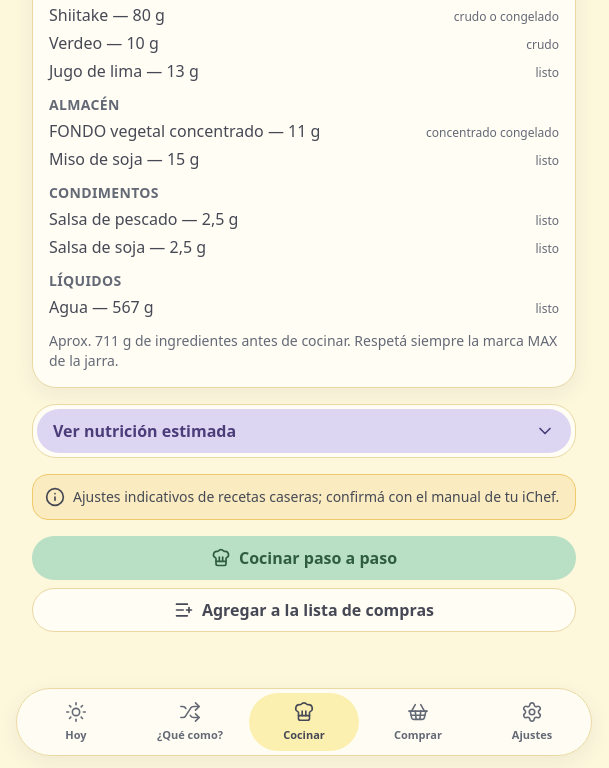
Test: Agregar a la lista de compras adds the soup at the chosen servings and confirms
(page scrolled)
Step 1. Click the button "Agregar a la lista de compras" → (304, 610), box [32, 588, 576, 632]
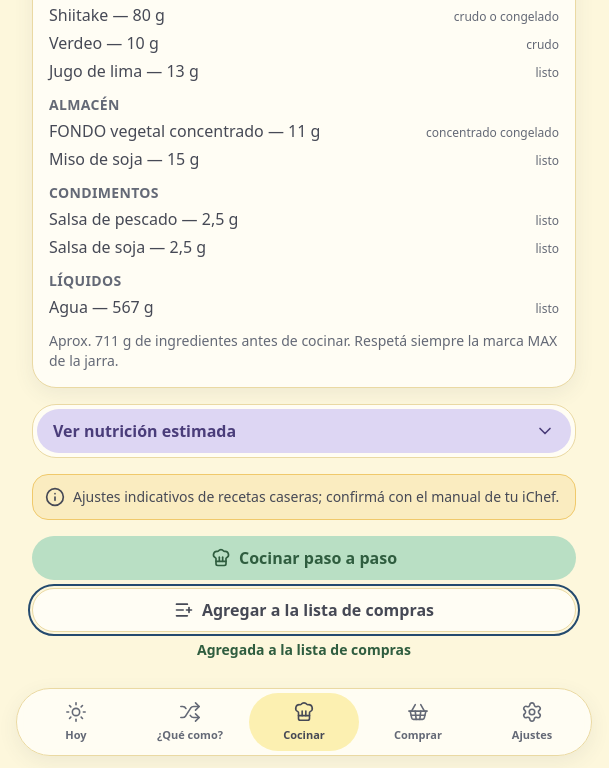
Expected: the message reads "Agregada a la lista de compras", [197, 640, 411, 659]
